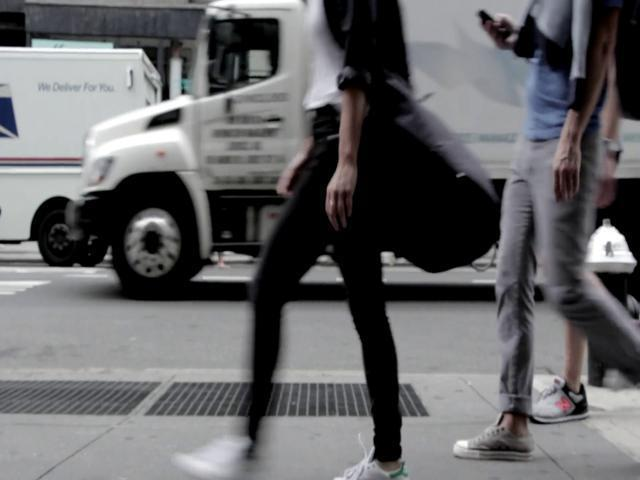shoe: (454, 414, 535, 461), (531, 377, 589, 424), (333, 447, 409, 479)
